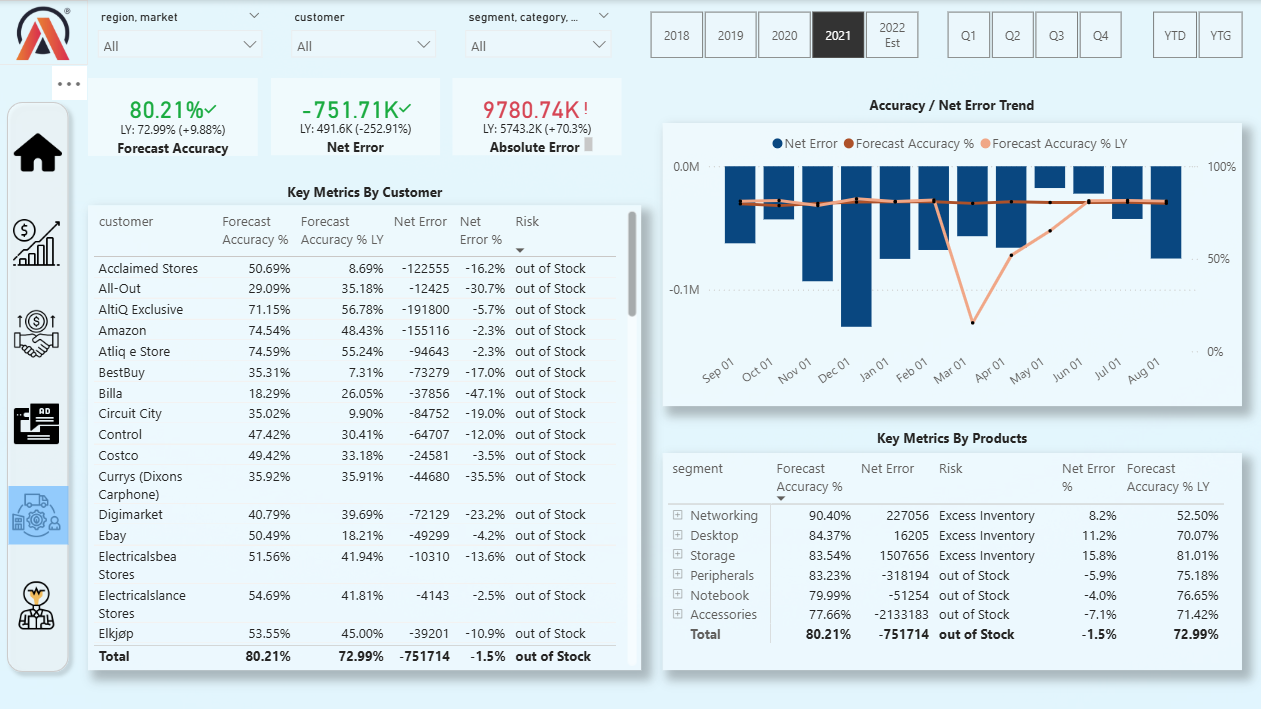

Layout of this report page (visuals, bound fields, positions):
{"tool":"powerbi","page":{"name":"Supply Chain View","canvas":[1280,720],"ordinal":4},"visuals":[{"type":"slicer","fields":{"Values":["fiscal_year.Fiscal Year description"]},"box":[632.4,4.6,320,61],"z":1000},{"type":"slicer","fields":{"Values":["dim_date.quarters"]},"box":[933.3,4.6,225.5,61],"z":2000},{"type":"slicer","fields":{"Values":["dim_date.year_till_date_year_to_go"]},"box":[1139.8,4.6,140.2,61],"z":3000},{"type":"textbox","box":[90.9,178.7,558.7,28.8],"z":9000},{"type":"slicer","fields":{"Values":["dim_market.region","dim_market.market"]},"box":[91.4,4.6,185.9,61],"z":10000},{"type":"slicer","fields":{"Values":["dim_product.segment","dim_product.category","dim_product.product"]},"box":[461.7,4.6,167.6,61],"z":11000},{"type":"slicer","fields":{"Values":["dim_customer.customer"]},"box":[286.5,4.6,166.1,61],"z":12000},{"type":"kpi","fields":{"TrendLine":["dim_date.fiscal year"],"Goal":["Key Measures.Forecast Accuracy % LY"],"Indicator":["Key Measures.Forecast Accuracy %"]},"box":[90.9,78.7,171.1,78.7],"z":13000},{"type":"textbox","box":[90.9,134.8,171.1,28.8],"z":14000},{"type":"kpi","fields":{"TrendLine":["dim_date.fiscal year"],"Goal":["Key Measures.Net Error LY"],"Indicator":["Key Measures.Net Error"]},"box":[275.8,79.2,170.7,77.7],"z":15000},{"type":"kpi","fields":{"TrendLine":["dim_date.fiscal year"],"Goal":["Key Measures.Absolute Error LY"],"Indicator":["Key Measures.Absolute Error"]},"box":[458.7,79.2,170.7,77.7],"z":16000},{"type":"textbox","box":[323,132.6,76.2,33.5],"z":17000},{"type":"textbox","box":[486.1,132.6,118.9,24.4],"z":18000},{"type":"image","box":[0,0,91.4,65.5],"z":19000},{"type":"shape","box":[0,93.9,80.3,593.6],"z":20000},{"type":"image","box":[9.1,307.1,59.1,59.1],"z":21000},{"type":"image","box":[9.1,398.5,59.1,59.1],"z":22000},{"type":"image","box":[9.1,215.6,59.1,59.1],"z":23000},{"type":"image","box":[10.6,124.2,59.1,59.1],"z":24000},{"type":"image","box":[9.1,490,59.1,59.1],"z":25000},{"type":"image","box":[9.1,581.5,59.1,59.1],"z":26000},{"type":"shape","box":[10.6,490.6,60.6,59.1],"z":27000},{"type":"tableEx","fields":{"Values":["dim_customer.customer","Key Measures.Forecast Accuracy %","Key Measures.Forecast Accuracy % LY","Key Measures.Net Error","Key Measures.Net Error %","Key Measures.Risk"]},"box":[90.9,207.4,558.7,469.4],"z":27001},{"type":"lineClusteredColumnComboChart","fields":{"Category":["dim_date.Month"],"Y2":["Key Measures.Forecast Accuracy %","Key Measures.Forecast Accuracy % LY"],"Y":["Key Measures.Net Error"]},"box":[670.8,124.2,584.5,286.2],"z":27002},{"type":"textbox","box":[670.8,90.9,584.5,33.3],"z":27003},{"type":"pivotTable","fields":{"Rows":["dim_product.segment","dim_product.category","dim_product.product"],"Values":["Key Measures.Forecast Accuracy %","Key Measures.Net Error","Key Measures.Risk","Key Measures.Net Error %","Key Measures.Forecast Accuracy % LY"]},"box":[670.8,457.3,584.5,219.6],"z":27004},{"type":"textbox","box":[670.8,427,584.5,28.8],"z":27005}]}

Visuals, with their boxes on the page's 1280x720 design canvas (x1, y1, x2, y2). These are canvas units, not pixel positions in the 1261x709 screenshot, which may show the page scaled, cropped or inside an application window:
slicer - fiscal_year.Fiscal Year description: x1=632, y1=5, x2=952, y2=66
slicer - dim_date.quarters: x1=933, y1=5, x2=1159, y2=66
slicer - dim_date.year_till_date_year_to_go: x1=1140, y1=5, x2=1280, y2=66
textbox: x1=91, y1=179, x2=650, y2=208
slicer - dim_market.region x dim_market.market: x1=91, y1=5, x2=277, y2=66
slicer - dim_product.segment x dim_product.category: x1=462, y1=5, x2=629, y2=66
slicer - dim_customer.customer: x1=286, y1=5, x2=453, y2=66
kpi - dim_date.fiscal year x Key Measures.Forecast Accuracy % LY: x1=91, y1=79, x2=262, y2=157
textbox: x1=91, y1=135, x2=262, y2=164
kpi - dim_date.fiscal year x Key Measures.Net Error LY: x1=276, y1=79, x2=446, y2=157
kpi - dim_date.fiscal year x Key Measures.Absolute Error LY: x1=459, y1=79, x2=629, y2=157
textbox: x1=323, y1=133, x2=399, y2=166
textbox: x1=486, y1=133, x2=605, y2=157
image: x1=0, y1=0, x2=91, y2=66
shape: x1=0, y1=94, x2=80, y2=688
image: x1=9, y1=307, x2=68, y2=366
image: x1=9, y1=398, x2=68, y2=458
image: x1=9, y1=216, x2=68, y2=275
image: x1=11, y1=124, x2=70, y2=183
image: x1=9, y1=490, x2=68, y2=549
image: x1=9, y1=582, x2=68, y2=641
shape: x1=11, y1=491, x2=71, y2=550
tableEx - dim_customer.customer x Key Measures.Forecast Accuracy %: x1=91, y1=207, x2=650, y2=677
lineClusteredColumnComboChart - dim_date.Month x Key Measures.Forecast Accuracy %: x1=671, y1=124, x2=1255, y2=410
textbox: x1=671, y1=91, x2=1255, y2=124
pivotTable - dim_product.segment x dim_product.category: x1=671, y1=457, x2=1255, y2=677
textbox: x1=671, y1=427, x2=1255, y2=456
